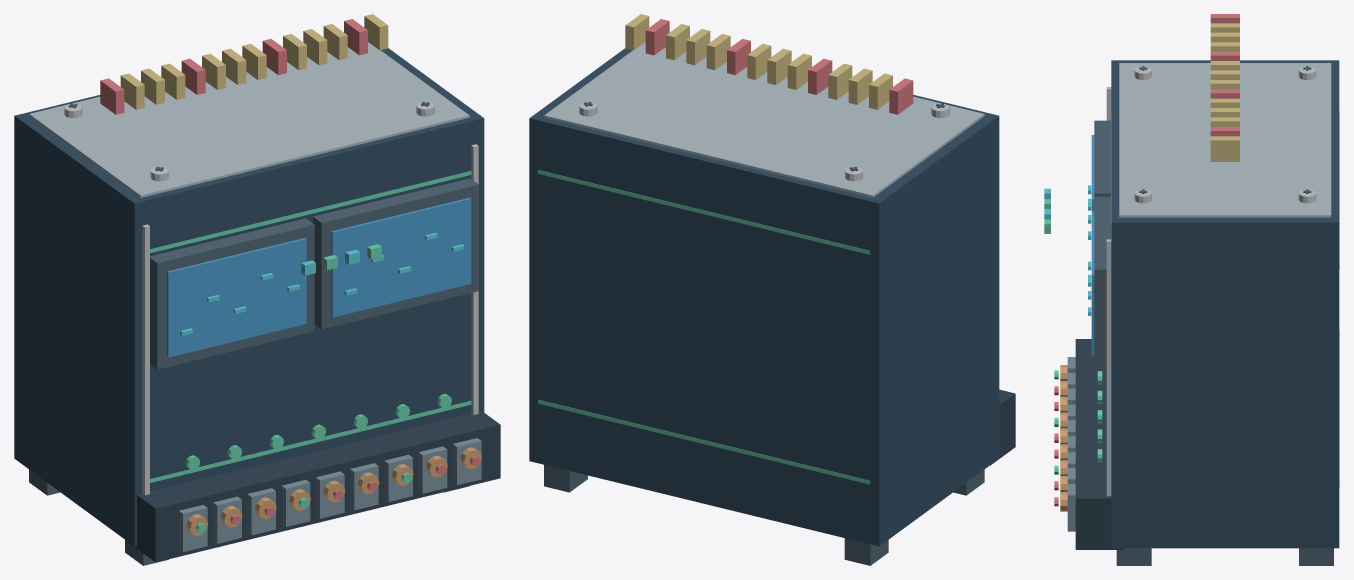
Rendered from 64_L79_Regulated5VControlSupply.glb.
3 views of the same model, side by side, from view 1: azimuth 30°, elevation 25°; view 2: azimuth 150°, elevation 25°; view 3: azimuth 270°, elevation 25° (orthographic). The views are drawn at different scales.
Parts seen in each view (by area): view 1: Regulated5VControlSupply_Node_0000, Regulated5VControlSupply_Node_0007, Regulated5VControlSupply_Node_0049, Regulated5VControlSupply_Node_0025, Regulated5VControlSupply_Node_0032, Regulated5VControlSupply_Node_0024, Regulated5VControlSupply_Node_0031, Regulated5VControlSupply_Node_0005, Regulated5VControlSupply_Node_0023, Regulated5VControlSupply_Node_0021, Regulated5VControlSupply_Node_0006, Regulated5VControlSupply_Node_0074 (+22 smaller); view 2: Regulated5VControlSupply_Node_0000, Regulated5VControlSupply_Node_0007, Regulated5VControlSupply_Node_0020, Regulated5VControlSupply_Node_0022, Regulated5VControlSupply_Node_0049, Regulated5VControlSupply_Node_0045, Regulated5VControlSupply_Node_0047, Regulated5VControlSupply_Node_0077, Regulated5VControlSupply_Node_0079, Regulated5VControlSupply_Node_0082, Regulated5VControlSupply_Node_0083, Regulated5VControlSupply_Node_0087 (+9 smaller); view 3: Regulated5VControlSupply_Node_0000, Regulated5VControlSupply_Node_0007, Regulated5VControlSupply_Node_0049, Regulated5VControlSupply_Node_0031, Regulated5VControlSupply_Node_0006, Regulated5VControlSupply_Node_0024, Regulated5VControlSupply_Node_0090, Regulated5VControlSupply_Node_0048, Regulated5VControlSupply_Node_0047, Regulated5VControlSupply_Node_0032, Regulated5VControlSupply_Node_0074.
Part boxes in pixels (box(x1,y1,x2,y2)): Regulated5VControlSupply_Node_0000: box(14, 48, 484, 546); Regulated5VControlSupply_Node_0007: box(29, 42, 469, 197); Regulated5VControlSupply_Node_0049: box(131, 411, 500, 562); Regulated5VControlSupply_Node_0025: box(167, 238, 306, 357); Regulated5VControlSupply_Node_0032: box(331, 197, 471, 317); Regulated5VControlSupply_Node_0024: box(150, 218, 314, 369); Regulated5VControlSupply_Node_0031: box(313, 178, 478, 329); Regulated5VControlSupply_Node_0005: box(142, 224, 149, 495); Regulated5VControlSupply_Node_0023: box(150, 171, 471, 253); Regulated5VControlSupply_Node_0021: box(150, 401, 471, 482); Regulated5VControlSupply_Node_0006: box(471, 144, 478, 415); Regulated5VControlSupply_Node_0074: box(452, 438, 481, 485); Regulated5VControlSupply_Node_0000: box(529, 48, 999, 546); Regulated5VControlSupply_Node_0007: box(544, 42, 984, 197); Regulated5VControlSupply_Node_0020: box(538, 399, 870, 484); Regulated5VControlSupply_Node_0022: box(538, 170, 870, 254); Regulated5VControlSupply_Node_0049: box(990, 389, 1015, 465); Regulated5VControlSupply_Node_0045: box(844, 538, 888, 565); Regulated5VControlSupply_Node_0047: box(544, 465, 587, 492); Regulated5VControlSupply_Node_0077: box(889, 78, 913, 114); Regulated5VControlSupply_Node_0079: box(848, 68, 872, 104); Regulated5VControlSupply_Node_0082: box(787, 53, 811, 89); Regulated5VControlSupply_Node_0083: box(767, 48, 791, 84); Regulated5VControlSupply_Node_0087: box(686, 29, 710, 65); Regulated5VControlSupply_Node_0000: box(1111, 60, 1339, 548); Regulated5VControlSupply_Node_0007: box(1119, 63, 1331, 217); Regulated5VControlSupply_Node_0049: box(1075, 339, 1123, 549); Regulated5VControlSupply_Node_0031: box(1094, 196, 1110, 370); Regulated5VControlSupply_Node_0006: box(1106, 239, 1111, 496); Regulated5VControlSupply_Node_0024: box(1094, 120, 1110, 196); Regulated5VControlSupply_Node_0090: box(1210, 136, 1239, 161); Regulated5VControlSupply_Node_0048: box(1116, 548, 1151, 565); Regulated5VControlSupply_Node_0047: box(1299, 548, 1333, 565); Regulated5VControlSupply_Node_0032: box(1091, 211, 1094, 356); Regulated5VControlSupply_Node_0074: box(1067, 484, 1075, 531).
Bounding box in the file's own units: 1.43 × 1.69 × 1.1.
